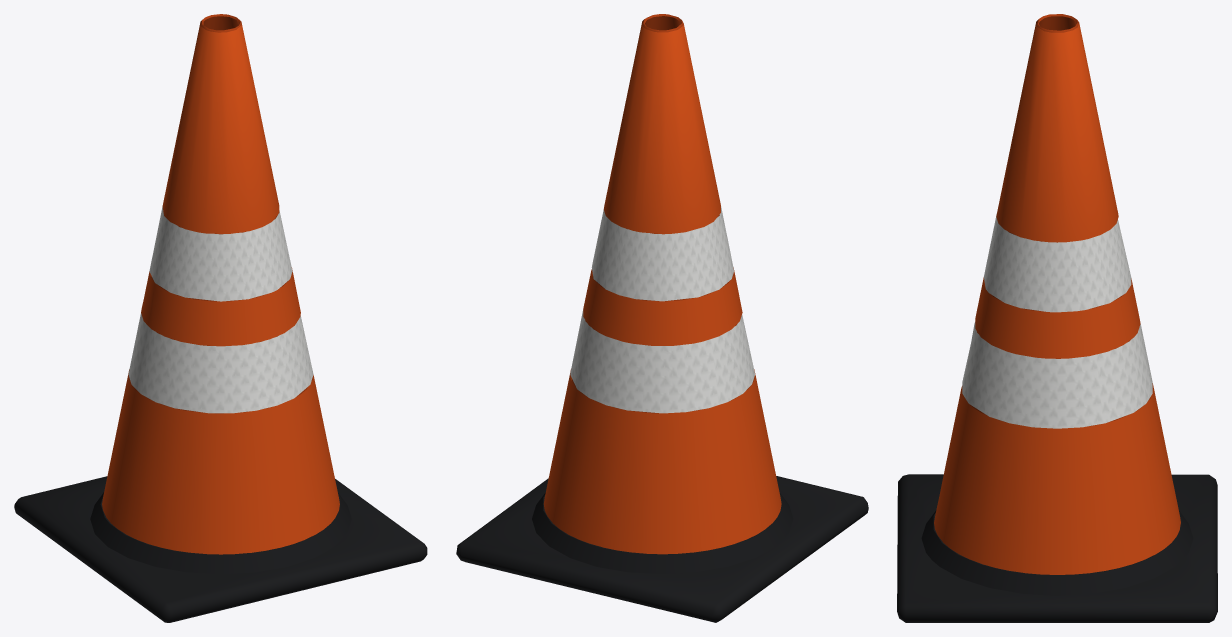
The picture shows the model from 3 angles, left to right: view 1: azimuth 30°, elevation 25°; view 2: azimuth 150°, elevation 25°; view 3: azimuth 270°, elevation 25°; orthographic projection. The views are drawn at different scales.
Visible parts, largest first — view 1: traffic-cone_base, traffic-cone_body; view 2: traffic-cone_base, traffic-cone_body; view 3: traffic-cone_base, traffic-cone_body.
Boxes of the visible parts, x1=… form: traffic-cone_base: x1=14, y1=14, x2=427, y2=622; traffic-cone_body: x1=128, y1=206, x2=313, y2=413; traffic-cone_base: x1=456, y1=14, x2=868, y2=622; traffic-cone_body: x1=570, y1=206, x2=755, y2=413; traffic-cone_base: x1=897, y1=14, x2=1217, y2=622; traffic-cone_body: x1=962, y1=213, x2=1152, y2=428.
Size of the model in its own units: 0.3795 by 0.702 by 0.38.
2 materials, 1 textured.
